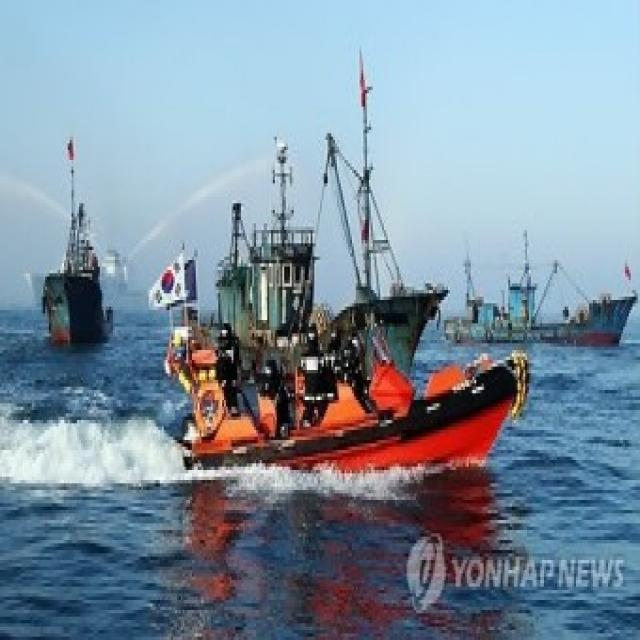Ship: (146, 155, 547, 505), (443, 221, 639, 364), (39, 142, 137, 368)
